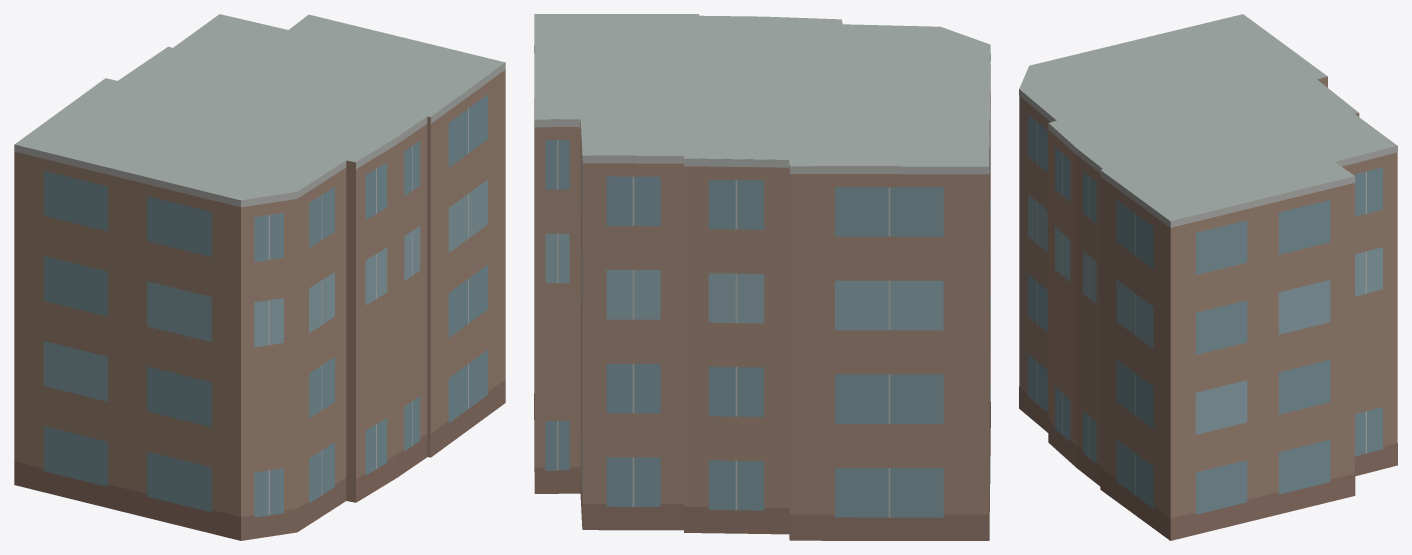
File: survey-upis-33013076.glb
3 renders of one model, left to right at view 1: azimuth 30°, elevation 25°; view 2: azimuth 150°, elevation 25°; view 3: azimuth 270°, elevation 25°, orthographic. The views are drawn at different scales.
Parts seen in each view (by area): view 1: survey-upis-33013076.tmp; view 2: survey-upis-33013076.tmp; view 3: survey-upis-33013076.tmp.
Boxes of the visible parts, <box> form: survey-upis-33013076.tmp: <box>14,14,505,540</box>; survey-upis-33013076.tmp: <box>534,14,990,540</box>; survey-upis-33013076.tmp: <box>1019,14,1397,540</box>.
Size of the model in its own units: 16.49 by 11.85 by 12.73.
